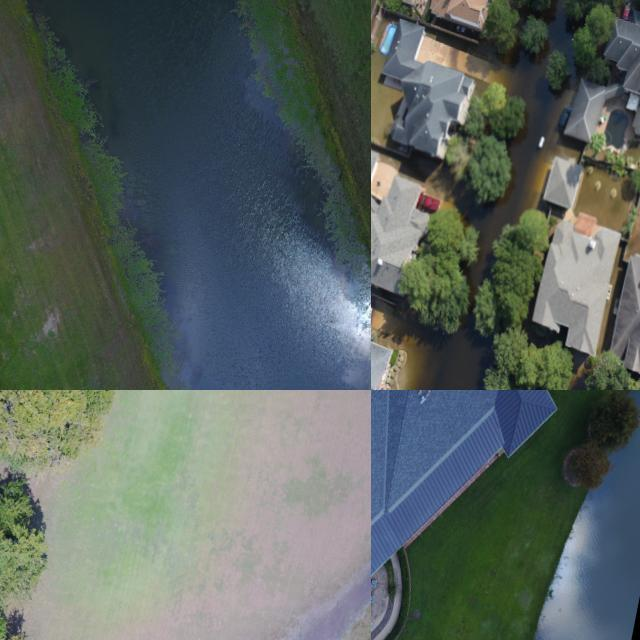fire: (30, 0, 371, 390), (452, 59, 579, 301), (535, 427, 640, 640), (440, 334, 486, 390)
